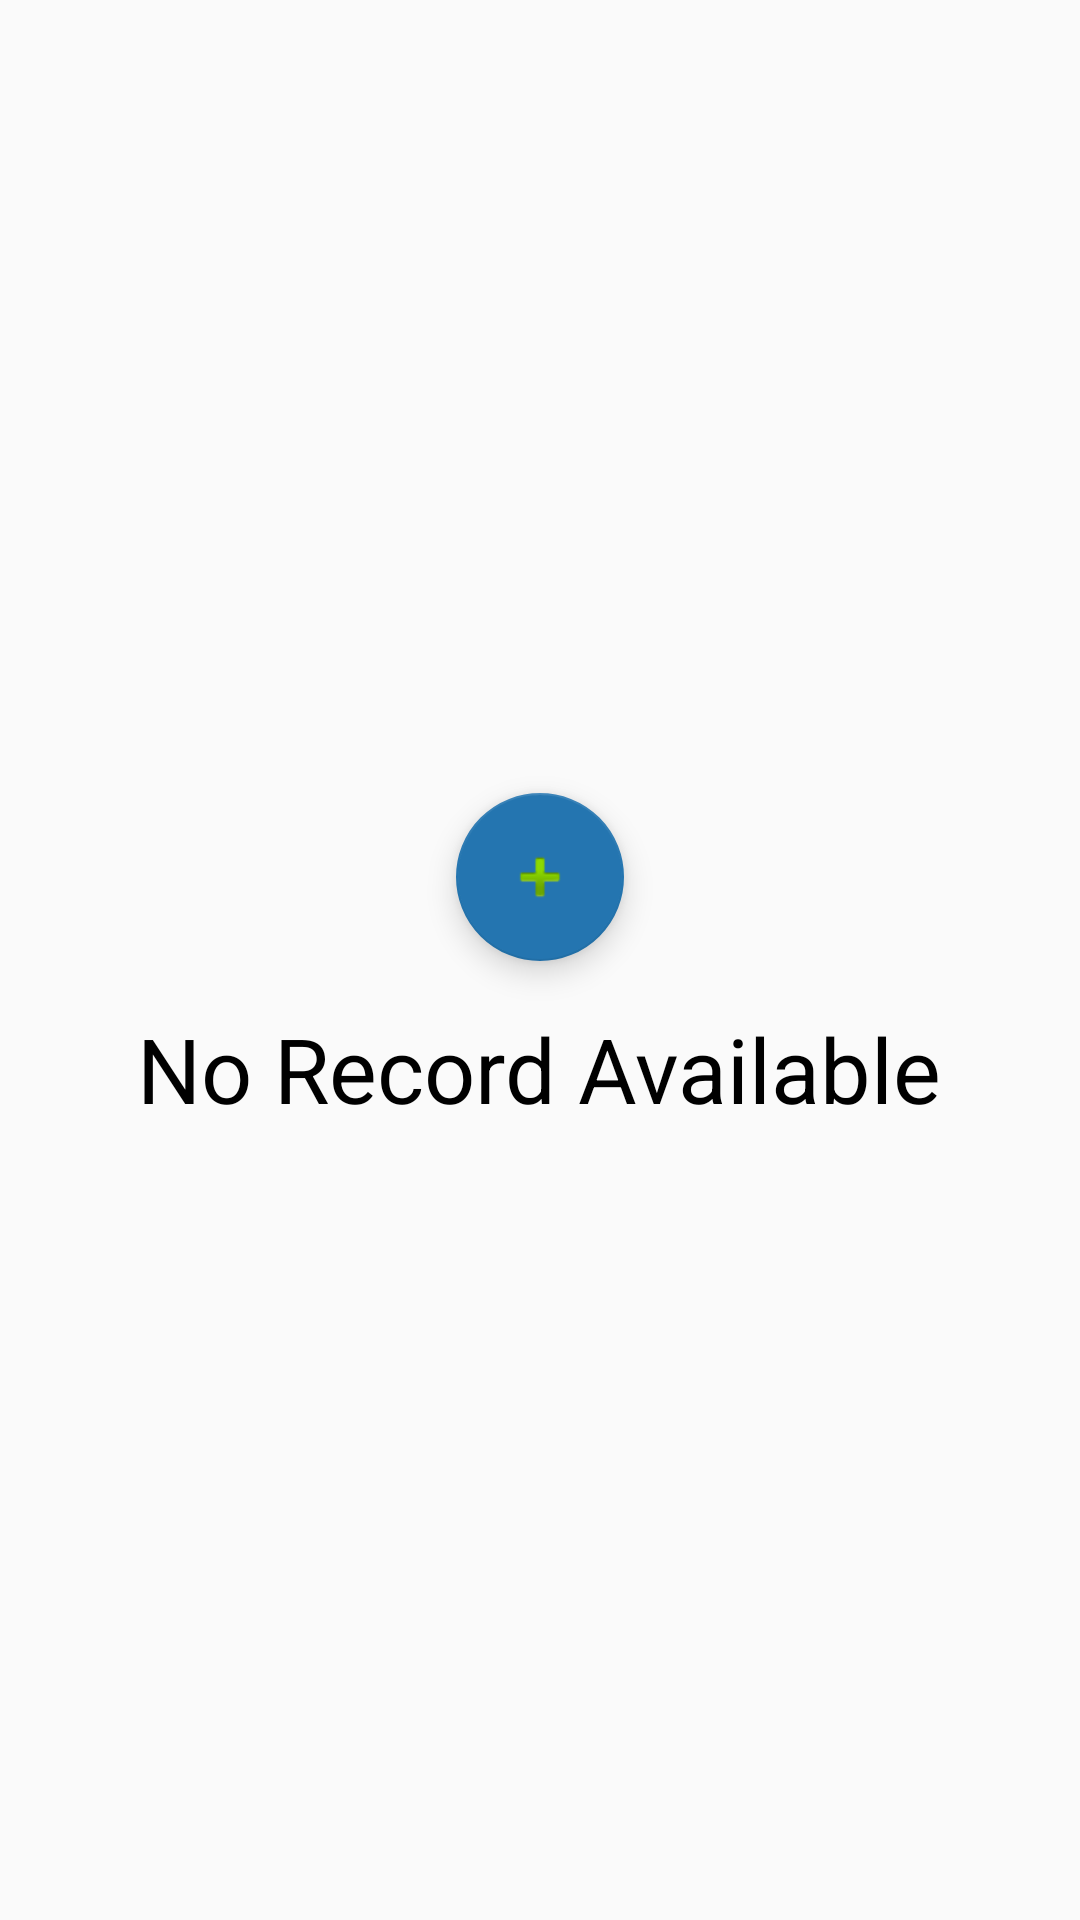

Where icons sit on this 1080px×1920px app screen, as (x1, y1, x2, y2):
add: (456, 793, 624, 961)
